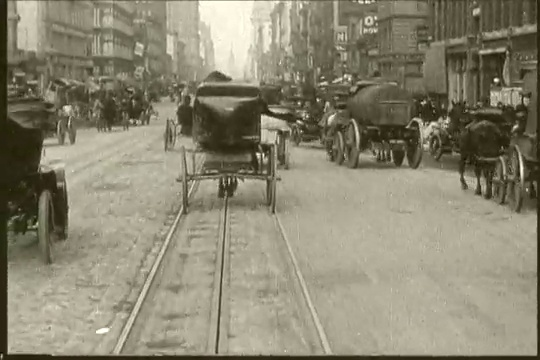car: (0, 98, 101, 281)
carriage: (174, 69, 280, 221), (438, 77, 540, 212), (313, 72, 436, 177), (159, 87, 214, 153)
